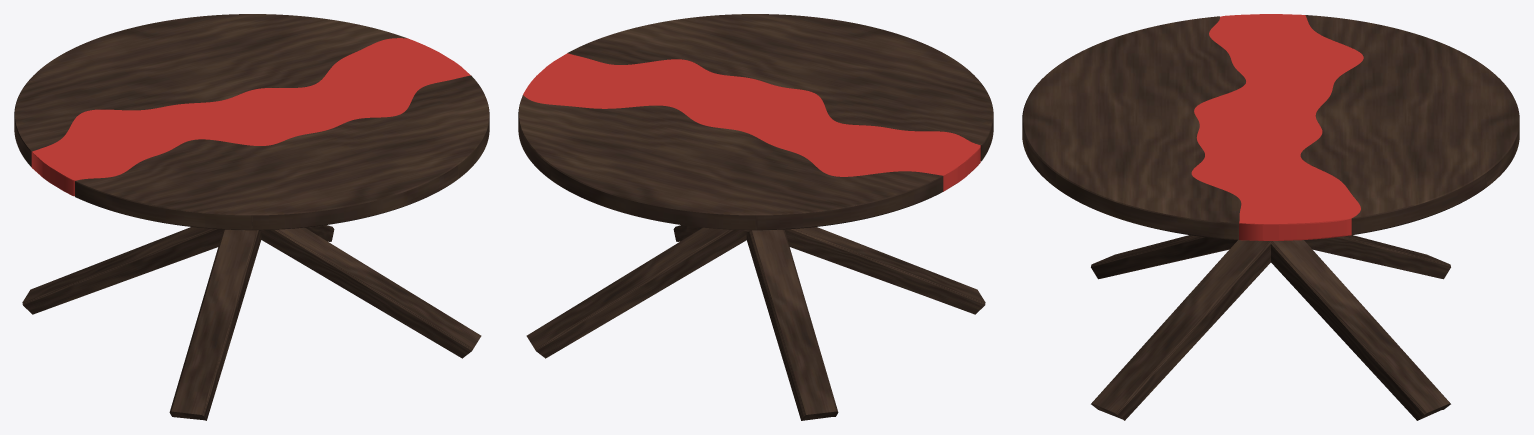
The model's file is round-walnut-epoxy-crimson.glb.
The picture shows the model from 3 angles, left to right: view 1: azimuth 30°, elevation 25°; view 2: azimuth 150°, elevation 25°; view 3: azimuth 270°, elevation 25°; orthographic projection. The views are drawn at different scales.
Visible parts, largest first — view 1: Wood_Round_EpoxyFar, Wood_Round_EpoxyNear, Resin_Round, Base_Round; view 2: Wood_Round_EpoxyNear, Wood_Round_EpoxyFar, Resin_Round, Base_Round; view 3: Wood_Round_EpoxyFar, Wood_Round_EpoxyNear, Resin_Round, Base_Round.
Part boxes in pixels (x1,y1,x2,y2): Wood_Round_EpoxyFar: (75,75,489,230); Wood_Round_EpoxyNear: (14,14,406,166); Resin_Round: (31,38,470,196); Base_Round: (22,225,481,420); Wood_Round_EpoxyNear: (518,95,943,230); Wood_Round_EpoxyFar: (567,14,993,161); Resin_Round: (523,53,980,191); Base_Round: (526,225,985,420); Wood_Round_EpoxyFar: (1022,16,1245,239); Wood_Round_EpoxyNear: (1300,15,1519,235); Resin_Round: (1191,14,1363,240); Base_Round: (1091,235,1450,420).
Size of the model in its own units: 1.52 by 0.762 by 1.52.
Materials: 3 (2 with a texture image).
